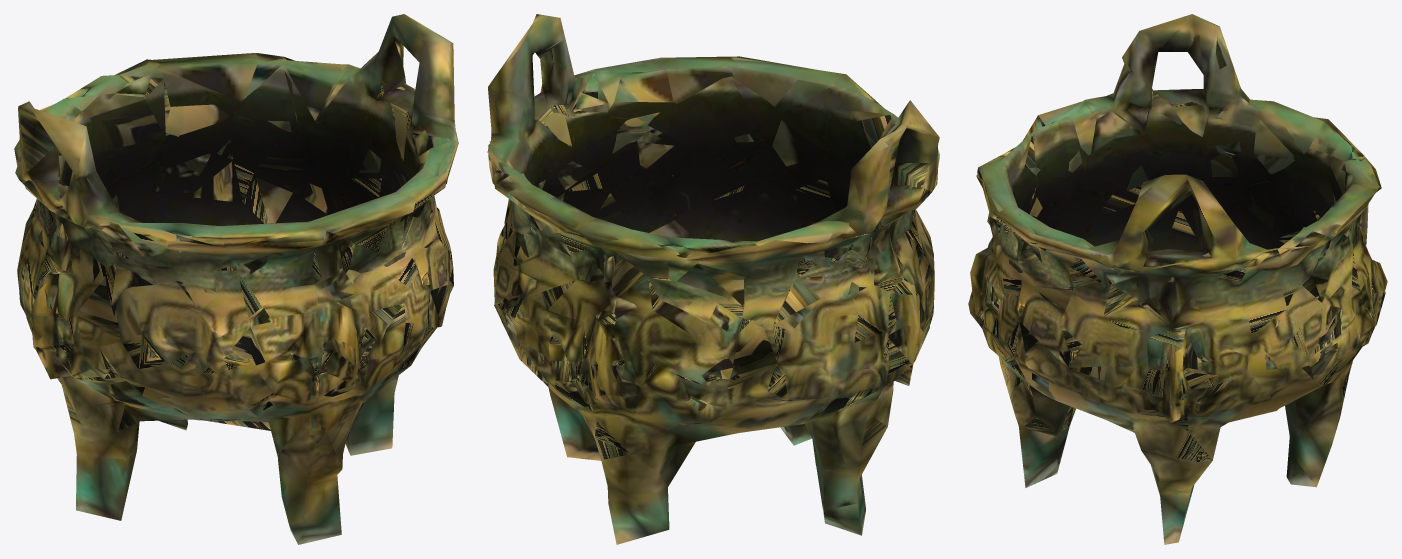
Rendered from bq_furnace.far.glb.
3 renders of one model, left to right at view 1: azimuth 30°, elevation 25°; view 2: azimuth 150°, elevation 25°; view 3: azimuth 270°, elevation 25°, orthographic. The views are drawn at different scales.
Size of the model in its own units: 1.68 by 1.66 by 1.66.
1 material, 1 textured.
